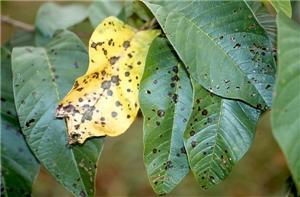black-spot: (153, 57, 181, 137)
